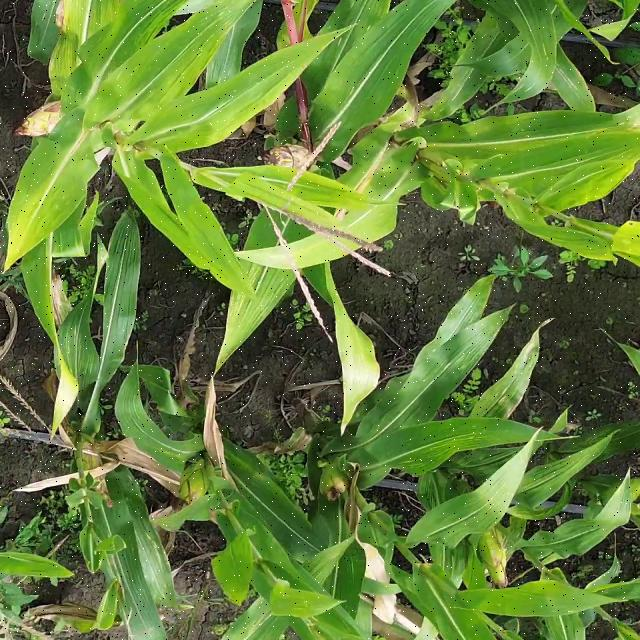gray-leaf-spot: (399, 434, 479, 469), (193, 6, 228, 69), (133, 528, 172, 584), (329, 0, 379, 43), (58, 327, 96, 378), (111, 386, 156, 428), (228, 267, 262, 318), (522, 39, 553, 94), (492, 372, 525, 414), (579, 432, 625, 456), (31, 0, 56, 35), (558, 66, 578, 92)
northern-leaf-blight: (351, 140, 396, 199), (47, 287, 79, 327)
